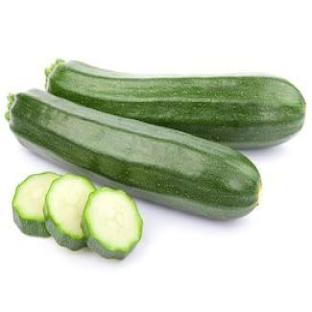Zucchini: (10, 90, 261, 218), (47, 60, 305, 147), (83, 188, 143, 259), (45, 174, 95, 249), (13, 173, 58, 236)
